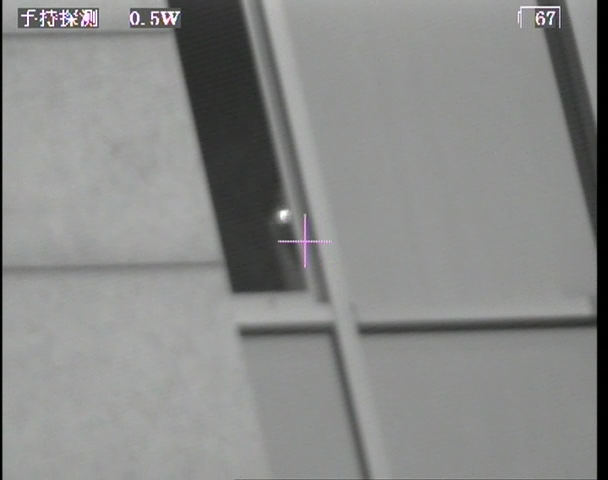my: (276, 207, 293, 225)
